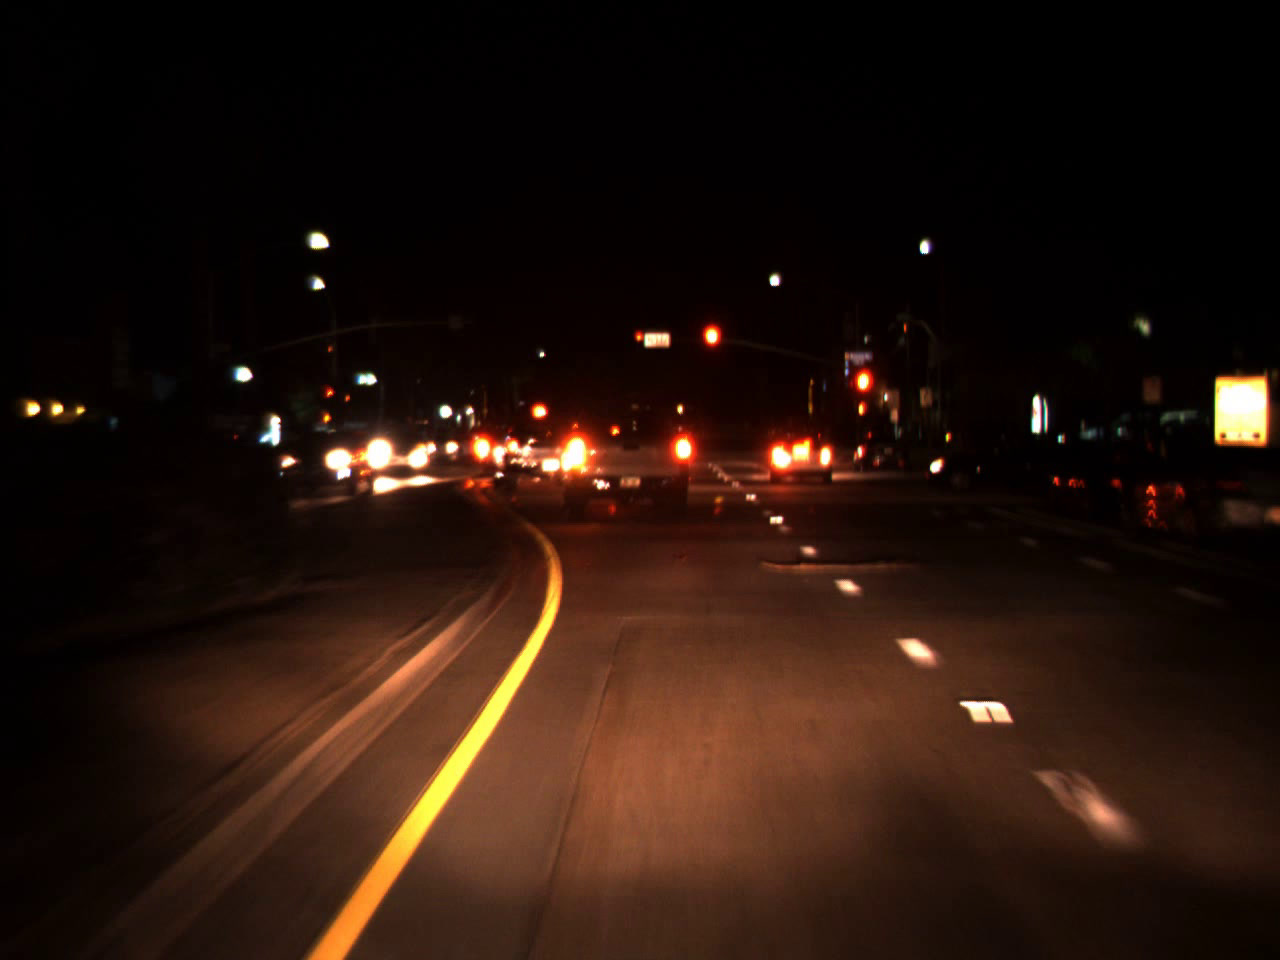stop: (850, 364, 877, 423), (700, 321, 724, 375), (634, 330, 646, 351), (325, 388, 334, 404)
